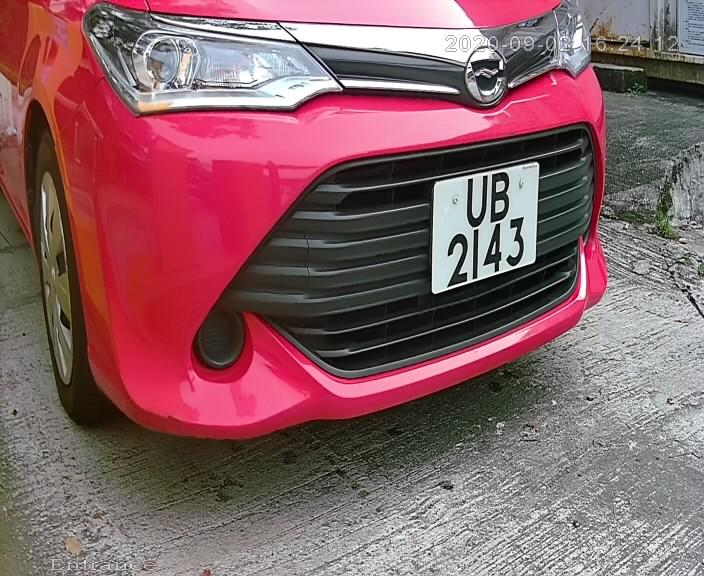License Plate: (425, 155, 544, 301)
